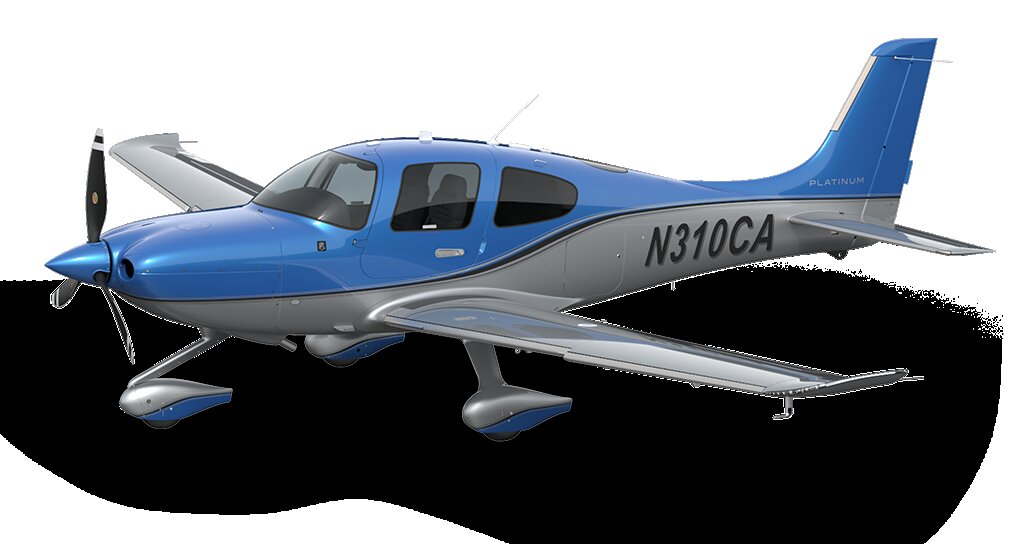Propeller: (48, 144, 143, 376)
